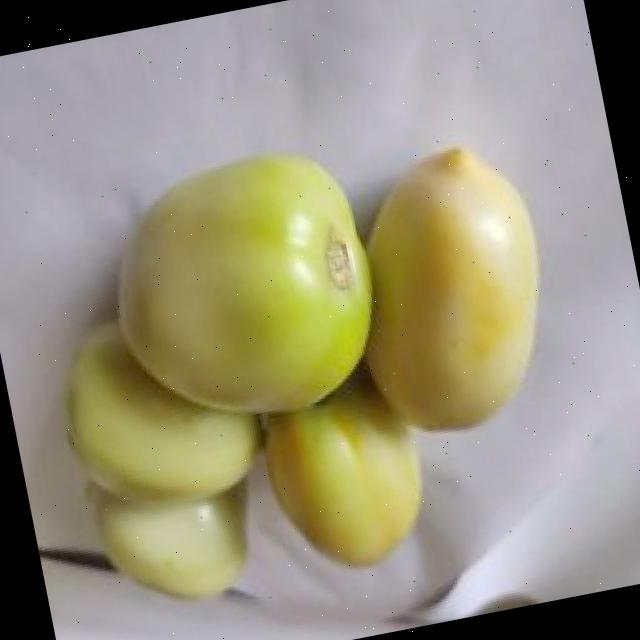tomato: (94, 141, 394, 445), (330, 134, 570, 446), (48, 299, 272, 522), (248, 362, 434, 580), (87, 448, 260, 616)
